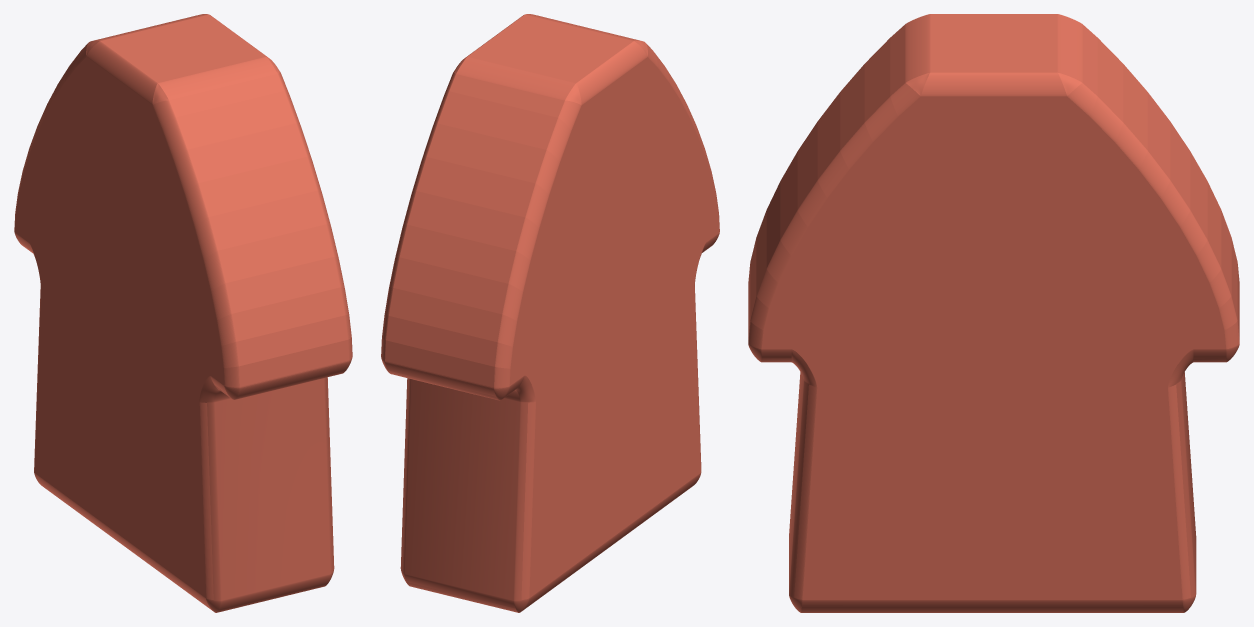
File: cloth.glb
3 renders of one model, left to right at view 1: azimuth 30°, elevation 25°; view 2: azimuth 150°, elevation 25°; view 3: azimuth 270°, elevation 25°, orthographic. The views are drawn at different scales.
Parts seen in each view (by area): view 1: 立方体; view 2: 立方体; view 3: 立方体.
Part boxes in pixels (bbox=[...]): 立方体: bbox=[14, 14, 352, 612]; 立方体: bbox=[381, 14, 719, 612]; 立方体: bbox=[748, 14, 1239, 612].
Size of the model in its own units: 1.8 by 6.54 by 5.39.
